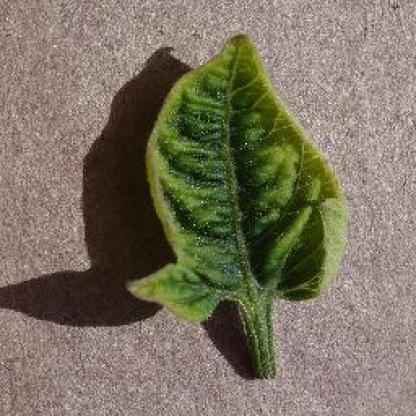bad leaf: (169, 26, 335, 163), (127, 124, 253, 254), (137, 273, 305, 365), (231, 164, 344, 258)
